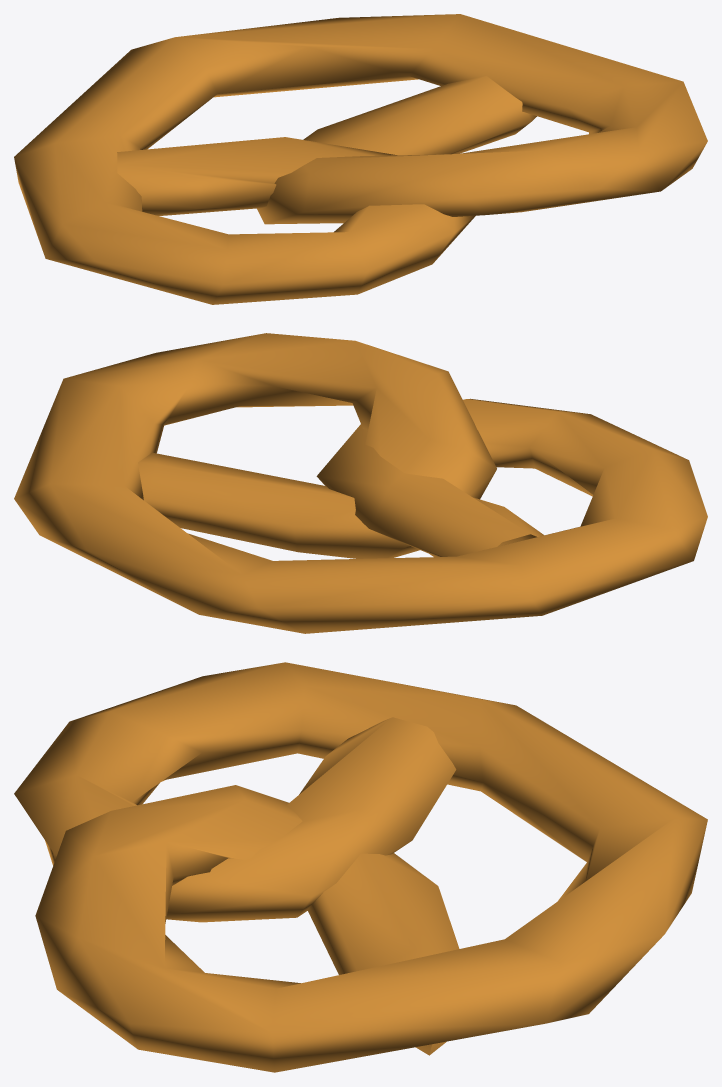
File: pretzel_lowPoly.fbx
The picture shows the model from 3 angles, top to bottom: view 1: azimuth 30°, elevation 25°; view 2: azimuth 150°, elevation 25°; view 3: azimuth 270°, elevation 25°; orthographic projection. The views are drawn at different scales.
Visible parts, largest first — view 1: BézierCircle; view 2: BézierCircle; view 3: BézierCircle.
Boxes of the visible parts, x1,y1,x2,y2 form: BézierCircle: (14, 14, 707, 304); BézierCircle: (14, 333, 707, 633); BézierCircle: (14, 662, 707, 1072).
Bounding box in the file's own units: 548 × 84.14 × 425.
